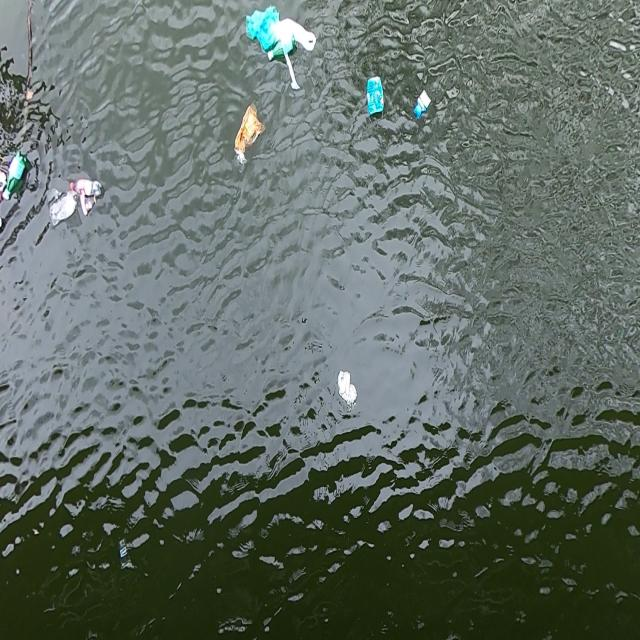Bouteille plastique: (1, 147, 28, 206), (69, 173, 104, 201), (261, 35, 296, 60)
Non plastique: (363, 73, 389, 120)
Sac plastique: (228, 99, 266, 174), (244, 1, 278, 46)
